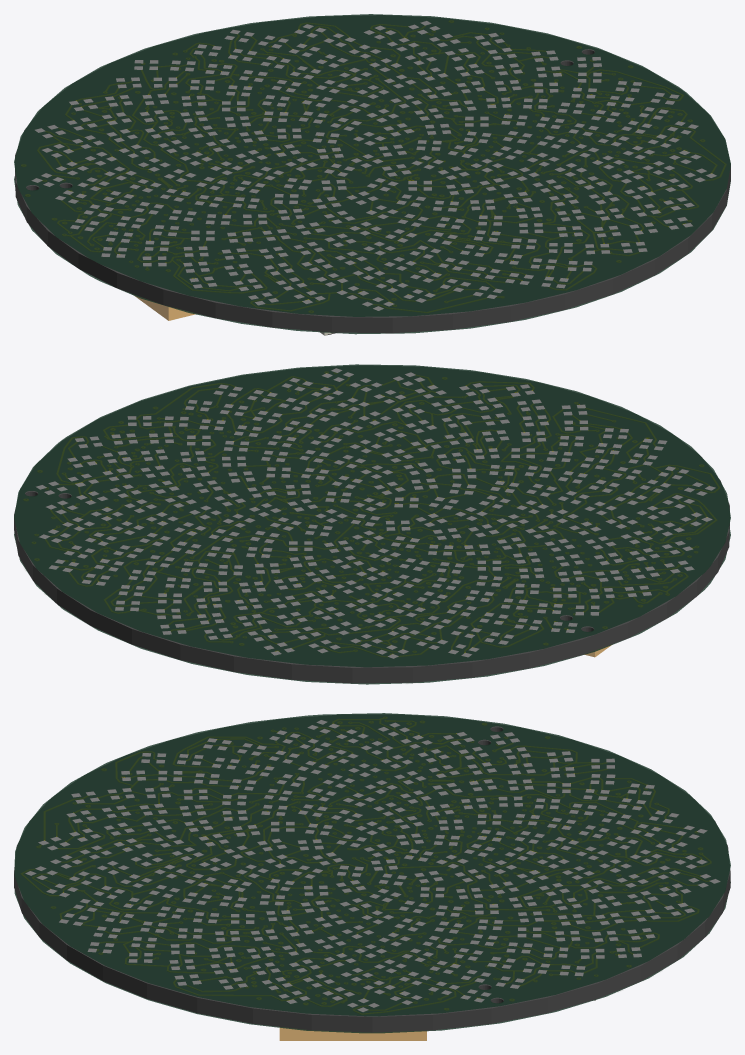
Rendered from board.glb.
The picture shows the model from 3 angles, top to bottom: view 1: azimuth 30°, elevation 25°; view 2: azimuth 150°, elevation 25°; view 3: azimuth 270°, elevation 25°; orthographic projection.
Visible parts, largest first — view 1: round-pendant_soldermask (×2), round-pendant_PCB, round-pendant_pad, round-pendant_copper; view 2: round-pendant_soldermask (×2), round-pendant_PCB, round-pendant_pad, round-pendant_copper; view 3: round-pendant_soldermask (×2), round-pendant_PCB, round-pendant_pad, round-pendant_copper, U2.
Boxes of the visible parts, bbox=[...] form: round-pendant_soldermask (×2): bbox=[14, 14, 730, 334]; round-pendant_PCB: bbox=[15, 15, 730, 333]; round-pendant_pad: bbox=[31, 21, 716, 311]; round-pendant_copper: bbox=[21, 21, 725, 312]; round-pendant_soldermask (×2): bbox=[14, 364, 730, 684]; round-pendant_PCB: bbox=[14, 366, 729, 683]; round-pendant_pad: bbox=[36, 368, 715, 658]; round-pendant_copper: bbox=[24, 372, 719, 656]; round-pendant_soldermask (×2): bbox=[14, 713, 730, 1033]; round-pendant_PCB: bbox=[14, 715, 730, 1032]; round-pendant_pad: bbox=[25, 720, 720, 1012]; round-pendant_copper: bbox=[21, 717, 710, 1014]; U2: bbox=[279, 1027, 426, 1040].
Size of the model in its own units: 0.038 by 0.00354 by 0.038.
